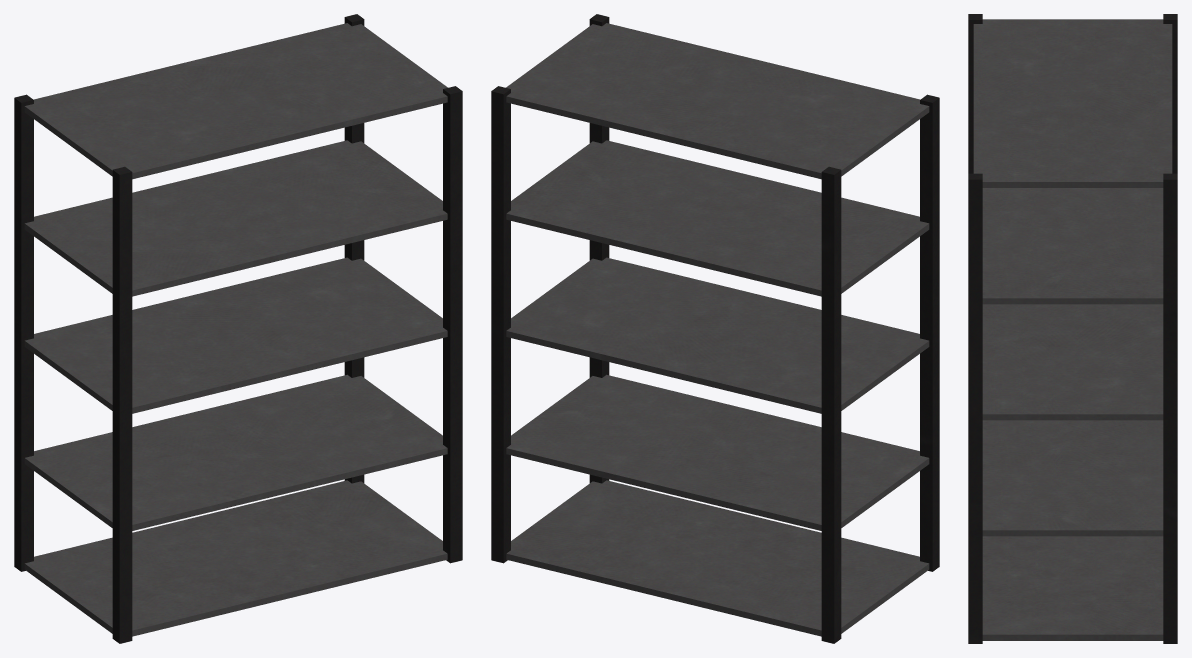
File: Estanteria.obj
The picture shows the model from 3 angles, left to right: view 1: azimuth 30°, elevation 25°; view 2: azimuth 150°, elevation 25°; view 3: azimuth 270°, elevation 25°; orthographic projection.
Visible parts, largest first — view 1: Estante.001; view 2: Estante.001; view 3: Estante.001.
Part boxes in pixels (bbox=[...]): Estante.001: bbox=[14, 14, 462, 643]; Estante.001: bbox=[491, 14, 939, 643]; Estante.001: bbox=[968, 14, 1177, 643].
Bounding box in the file's own units: 1.53 × 2 × 0.8163.
